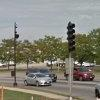Traffic light: (59, 17, 85, 63)
